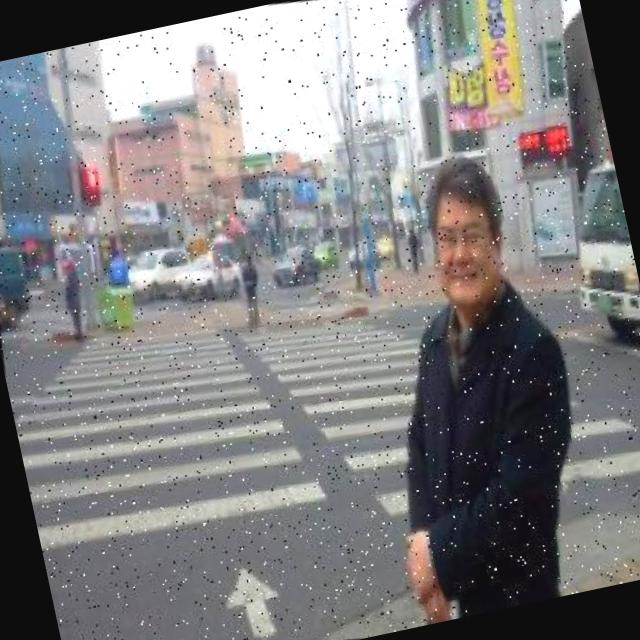Person: (322, 130, 634, 625), (228, 248, 269, 334)
